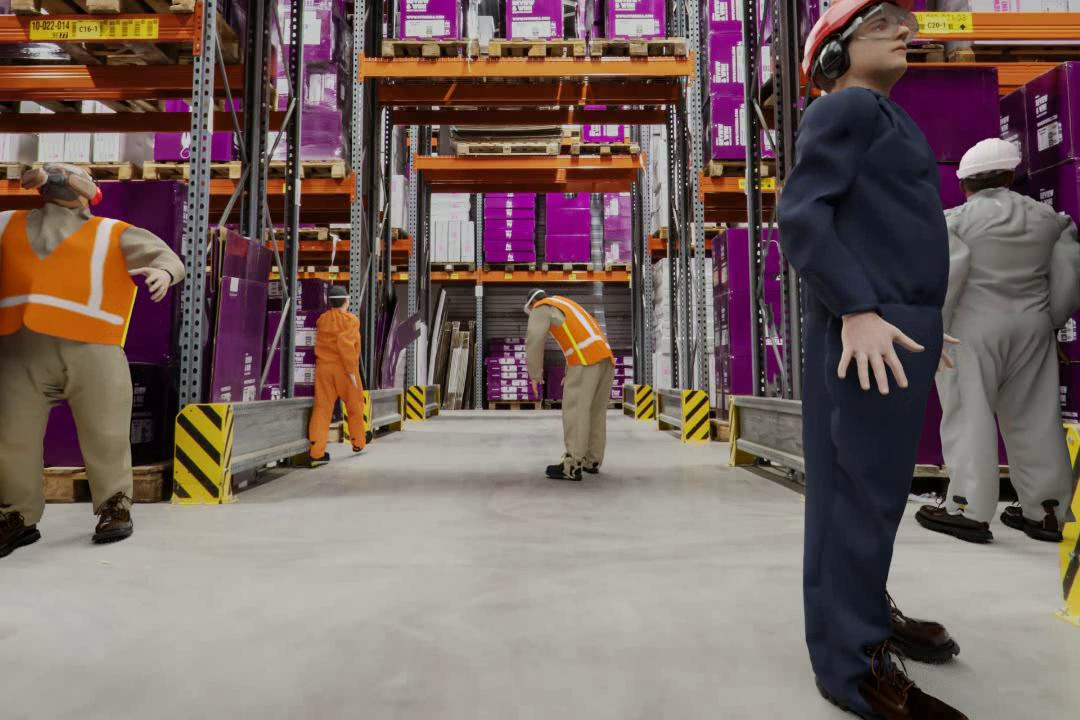Goggles: (853, 9, 938, 39), (41, 164, 96, 185), (323, 292, 354, 302), (516, 304, 541, 313)
Helmet: (957, 134, 1039, 182)
Jacket: (2, 207, 141, 340), (549, 290, 604, 371)
Shoes: (813, 660, 974, 720), (886, 609, 957, 662), (909, 503, 990, 549), (999, 498, 1059, 543), (86, 497, 137, 548), (0, 507, 39, 561), (544, 461, 584, 480), (349, 429, 372, 451), (312, 452, 331, 468), (585, 465, 601, 476)
